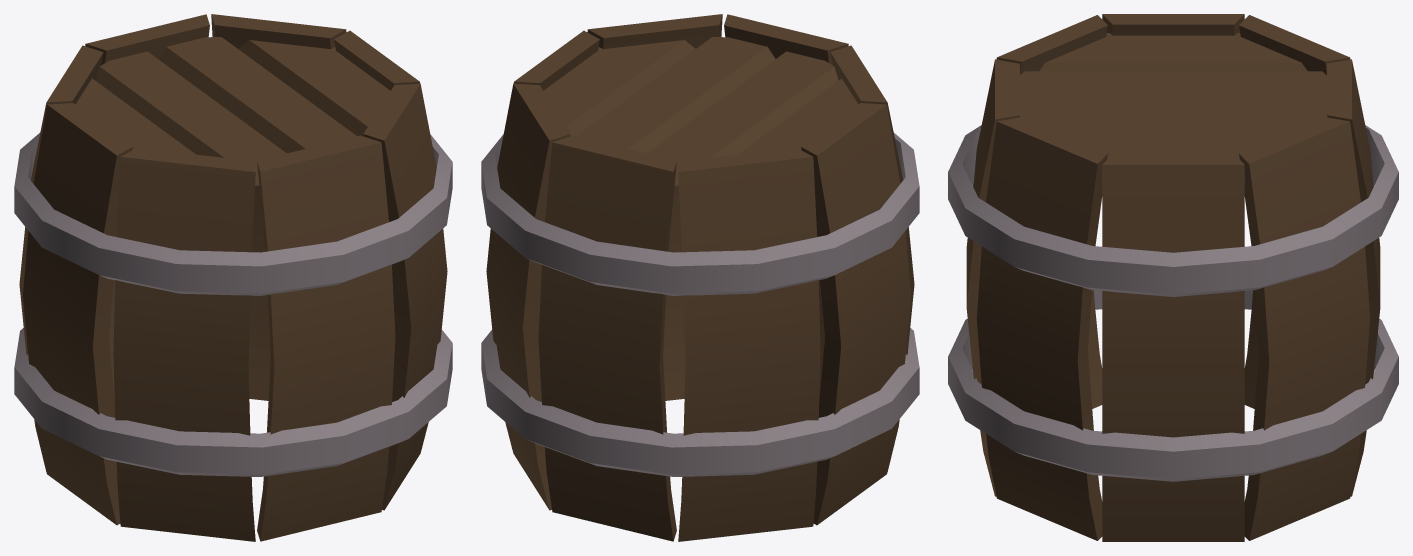
Rendered from Prop_Barrel.gltf.
3 views of the same model, side by side, from view 1: azimuth 30°, elevation 25°; view 2: azimuth 150°, elevation 25°; view 3: azimuth 270°, elevation 25° (orthographic).
Parts seen in each view (by area): view 1: Prop_Barrel; view 2: Prop_Barrel; view 3: Prop_Barrel.
Boxes of the visible parts, <box> form: Prop_Barrel: <box>14,14,452,541</box>; Prop_Barrel: <box>481,14,919,541</box>; Prop_Barrel: <box>948,14,1398,541</box>.
Size of the model in its own units: 0.7147 by 0.6599 by 0.7147.
Materials: 1 (1 with a texture image).
